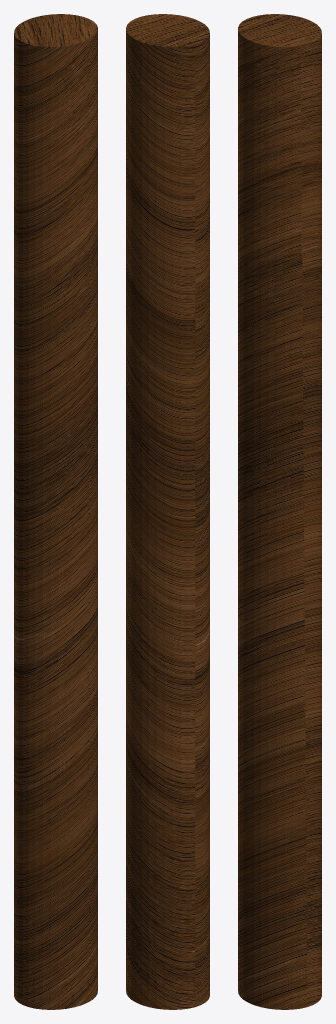
The model's file is collectableMast.glb.
The picture shows the model from 3 angles, left to right: view 1: azimuth 30°, elevation 25°; view 2: azimuth 150°, elevation 25°; view 3: azimuth 330°, elevation 25°; orthographic projection.
Visible parts, largest first — view 1: Raft Pole; view 2: Raft Pole; view 3: Raft Pole.
Boxes of the visible parts, x1=… form: Raft Pole: x1=14, y1=14, x2=97, y2=1009; Raft Pole: x1=126, y1=14, x2=209, y2=1009; Raft Pole: x1=238, y1=14, x2=321, y2=1009.
Bounding box in the file's own units: 0.4123 × 5.06 × 0.36.
Materials: 1 (1 with a texture image).
